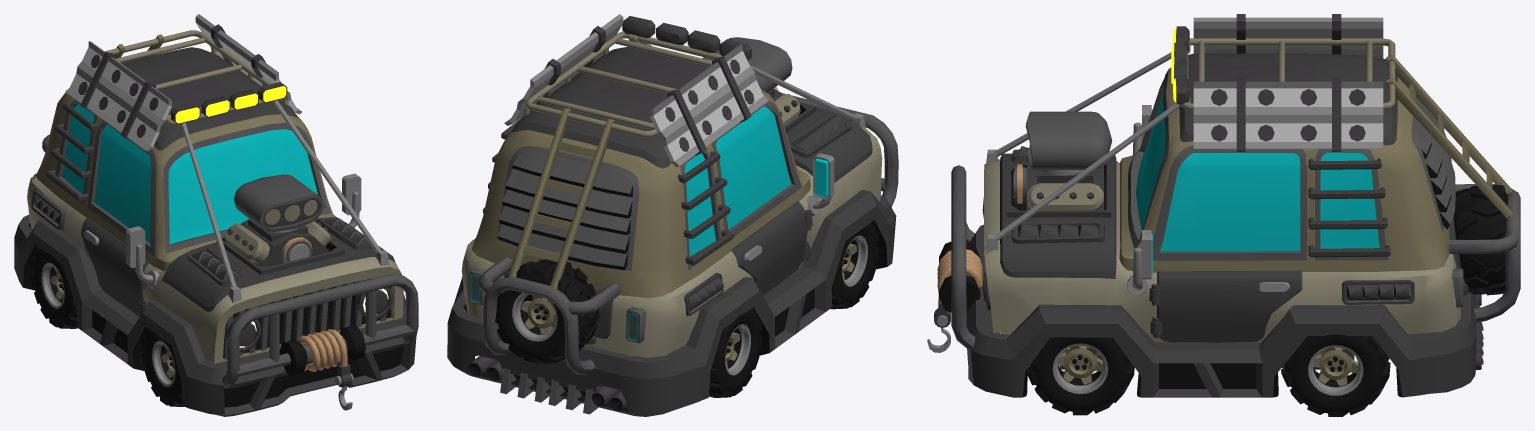
Rendered from SVehicle11.fbx.
3 renders of one model, left to right at view 1: azimuth 30°, elevation 25°; view 2: azimuth 150°, elevation 25°; view 3: azimuth 270°, elevation 25°, orthographic. The views are drawn at different scales.
Parts seen in each view (by area): view 1: SVehicle11, SV11_Wheel_BR, SV11_Wheel_FR, SV11_Parts; view 2: SVehicle11, SV11_Parts, SV11_Wheel_BR, SV11_Wheel_FR; view 3: SVehicle11, SV11_Wheel_BL, SV11_Wheel_FL, SV11_Parts.
Part boxes in pixels (x1,y1,x2,y2): SVehicle11: (14, 14, 418, 416); SV11_Wheel_BR: (31, 247, 77, 328); SV11_Wheel_FR: (141, 329, 185, 406); SV11_Parts: (297, 329, 353, 410); SVehicle11: (447, 14, 898, 416); SV11_Parts: (495, 259, 599, 363); SV11_Wheel_BR: (709, 308, 762, 397); SV11_Wheel_FR: (830, 222, 879, 309); SVehicle11: (939, 14, 1520, 397); SV11_Wheel_BL: (1281, 334, 1390, 416); SV11_Wheel_FL: (1027, 337, 1134, 415); SV11_Parts: (927, 184, 1508, 352).
Size of the model in its own units: 256 by 277 by 480.
Materials: 1 (1 with a texture image).
